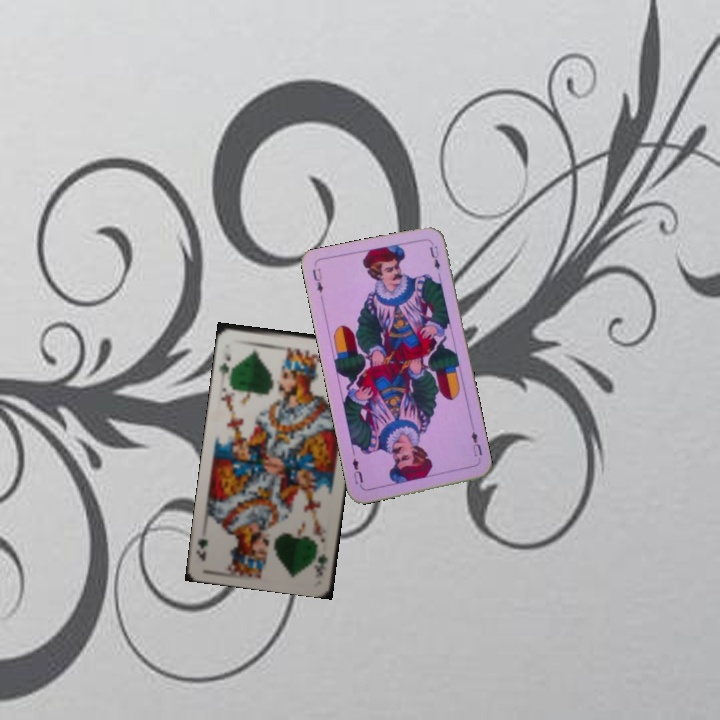EU: (467, 427, 485, 459), (308, 264, 326, 295)
GK: (215, 348, 235, 380), (312, 549, 330, 578)
